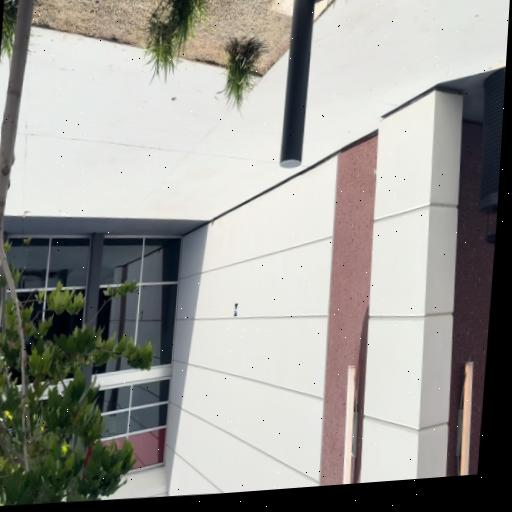target7: (234, 302, 238, 317)
